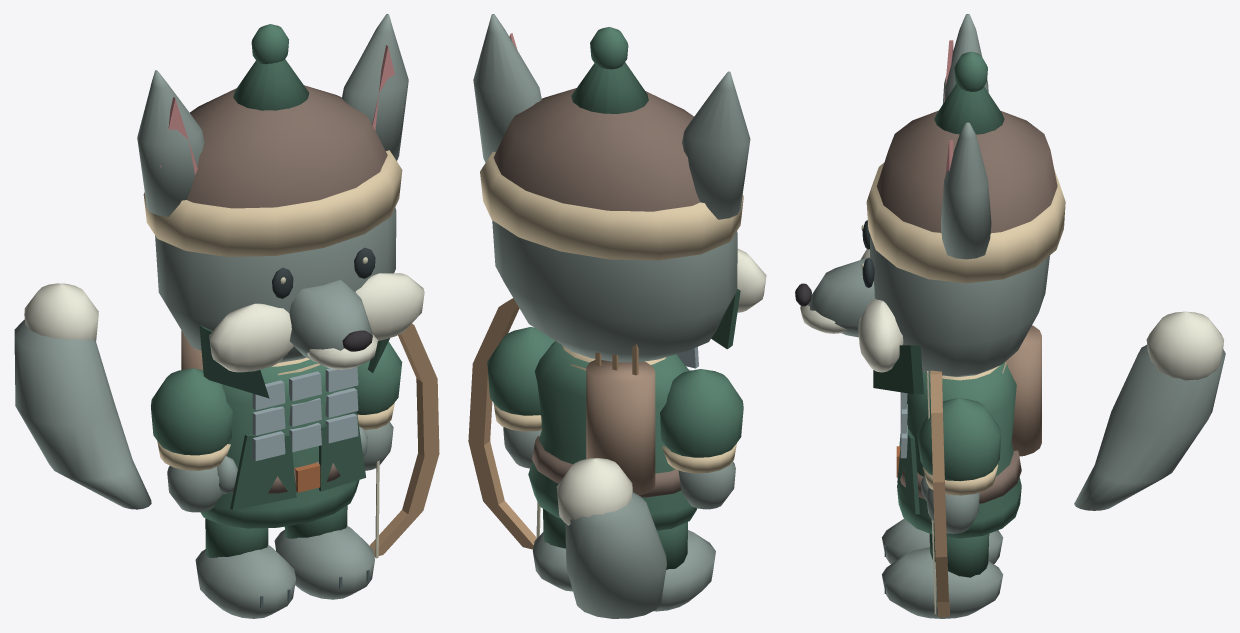
Rendered from archer.glb.
3 views of the same model, side by side, from view 1: azimuth 30°, elevation 25°; view 2: azimuth 150°, elevation 25°; view 3: azimuth 270°, elevation 25° (orthographic). The views are drawn at different scales.
Visible parts, largest first — view 1: Regional helmet, Plush sweeping tail, Animal cheek head, Fur hat brim, Short folded tunic, Tall animal ear, Puff sleeve, Soft animal paw, Soft animal paw.001, Tall animal ear.001, Curved bow, Light cheek fluff (+26 smaller); view 2: Animal cheek head, Regional helmet, Fur hat brim, Plush sweeping tail, Short folded tunic, Quiver leather, Tall animal ear, Puff sleeve, Tall animal ear.001, Curved bow, Puff sleeve.001, Tail pale tip (+13 smaller); view 3: Animal cheek head, Regional helmet, Plush sweeping tail, Fur hat brim, Short folded tunic, Tall animal ear.001, Soft animal paw.001, Puff sleeve.001, Tail pale tip, Quiver leather, Curved bow, Long pointed muzzle (+12 smaller).
Boxes of the visible parts, x1,y1,x2,y2 form: Regional helmet: (186, 85, 387, 208); Plush sweeping tail: (14, 319, 151, 509); Animal cheek head: (155, 207, 396, 362); Fur hat brim: (143, 150, 402, 256); Short folded tunic: (200, 359, 359, 528); Tall animal ear: (137, 70, 204, 216); Puff sleeve: (151, 368, 232, 455); Soft animal paw: (195, 545, 295, 618); Soft animal paw.001: (274, 525, 374, 599); Tall animal ear.001: (341, 14, 408, 160); Curved bow: (369, 323, 439, 556); Light cheek fluff: (209, 303, 293, 372); Animal cheek head: (492, 220, 737, 362); Regional helmet: (493, 88, 699, 211); Fur hat brim: (480, 151, 743, 260); Plush sweeping tail: (565, 492, 666, 618); Short folded tunic: (528, 341, 697, 530); Quiver leather: (586, 360, 655, 495); Tall animal ear: (682, 71, 750, 219); Puff sleeve: (660, 369, 743, 457); Tall animal ear.001: (473, 14, 541, 162); Curved bow: (468, 298, 536, 549); Puff sleeve.001: (487, 327, 554, 415); Tail pale tip: (556, 458, 632, 525); Animal cheek head: (870, 236, 1049, 377); Regional helmet: (876, 110, 1057, 233); Plush sweeping tail: (1074, 345, 1225, 510); Fur hat brim: (866, 163, 1065, 283); Short folded tunic: (897, 362, 1021, 538); Tall animal ear.001: (941, 122, 991, 259); Soft animal paw.001: (882, 547, 1003, 618); Puff sleeve.001: (917, 398, 1001, 481); Tail pale tip: (1146, 311, 1224, 380); Quiver leather: (1006, 325, 1041, 456); Curved bow: (930, 370, 949, 617); Long pointed muzzle: (807, 257, 874, 337).
Bounding box in the file's own units: 0.985 × 1.78 × 1.28.
